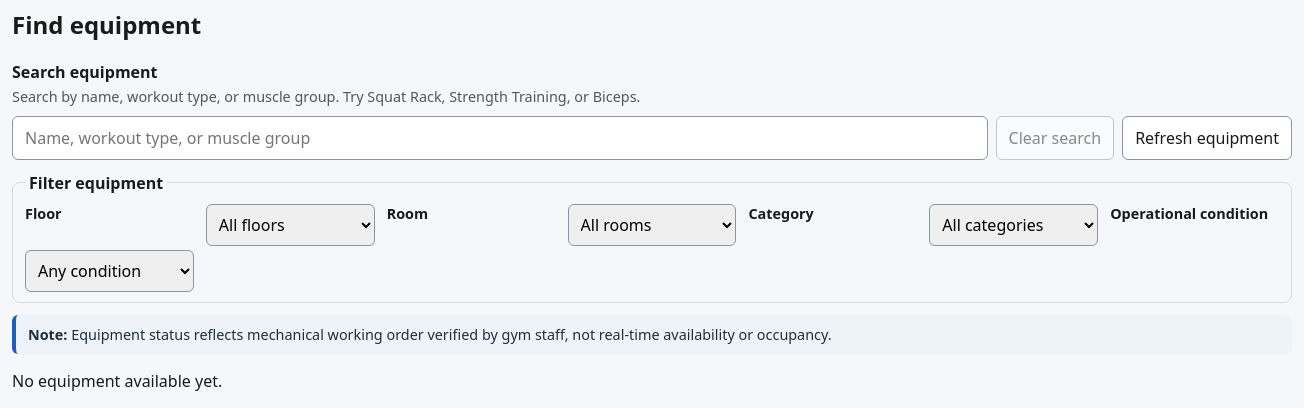
coalesces rapid input and keeps the search box available while loading
Expected: the text "No equipment available yet." is shown, left=12, top=370, right=222, bottom=392
Type "B" into the search field at coordinates (500, 138), box left=12, top=116, right=988, bottom=160
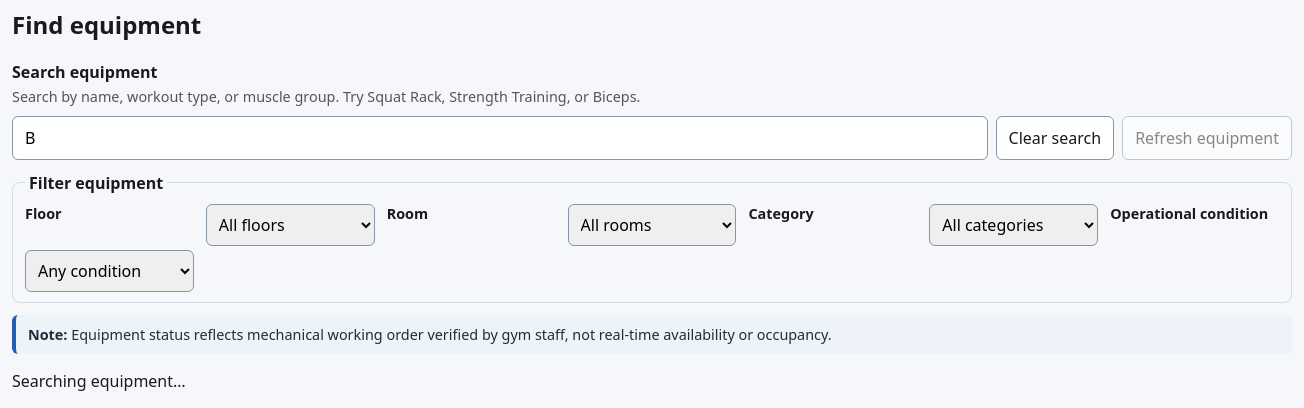
Replace the text in the search field with "Bi" at coordinates (500, 138), box left=12, top=116, right=988, bottom=160
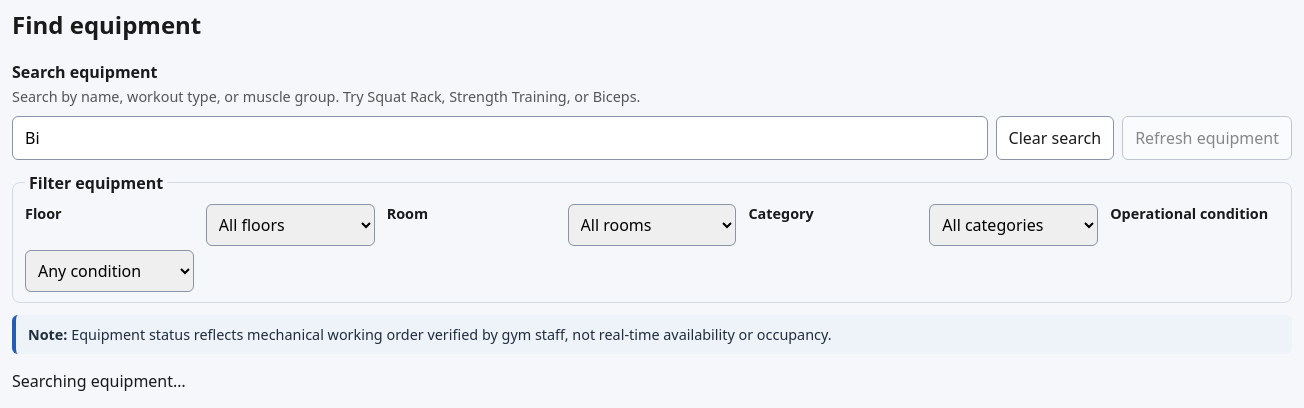
Replace the text in the search field with "Biceps" at coordinates (500, 138), box left=12, top=116, right=988, bottom=160
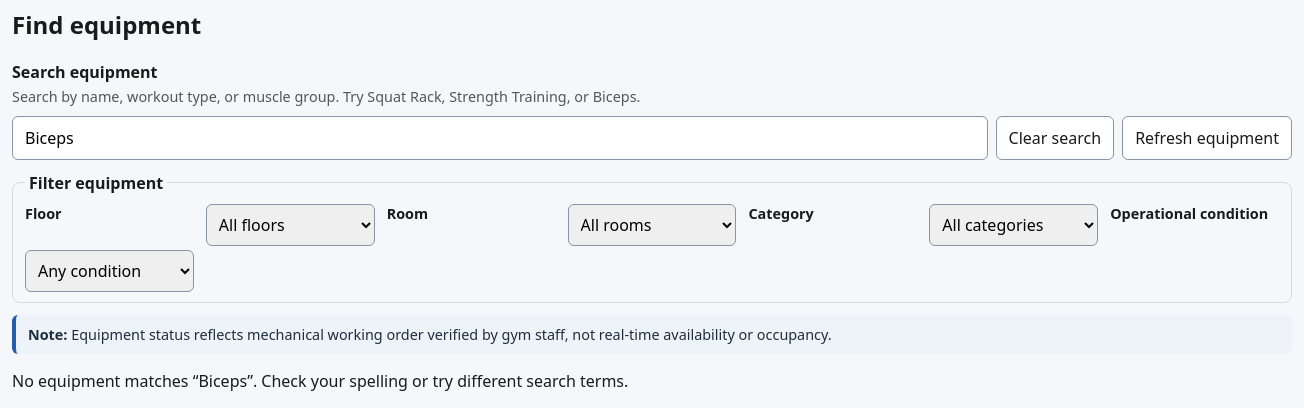
Result: the text "No equipment matches" is shown at left=12, top=370, right=628, bottom=392
